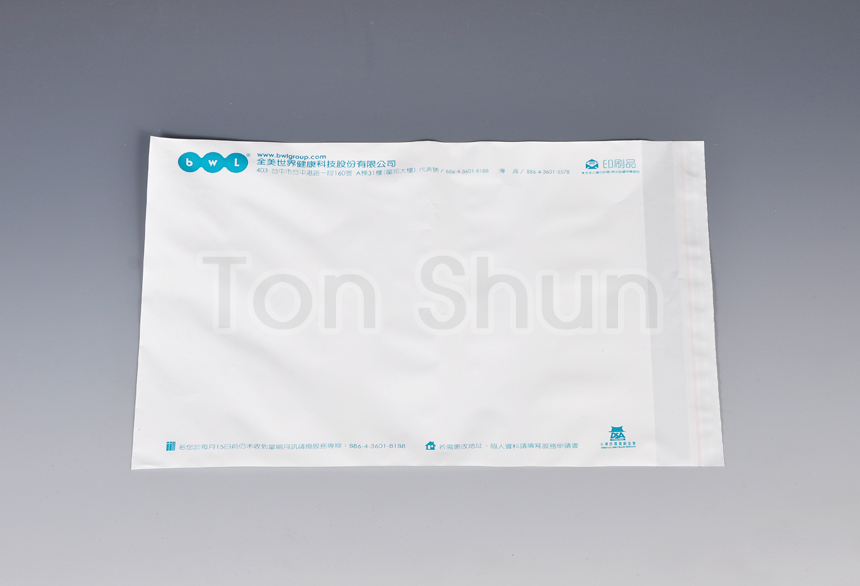Parcel: (132, 138, 724, 467)
